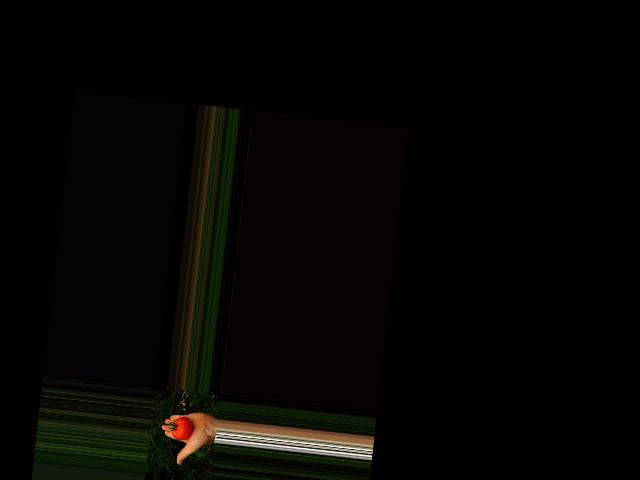tomato: (171, 415, 194, 441)
